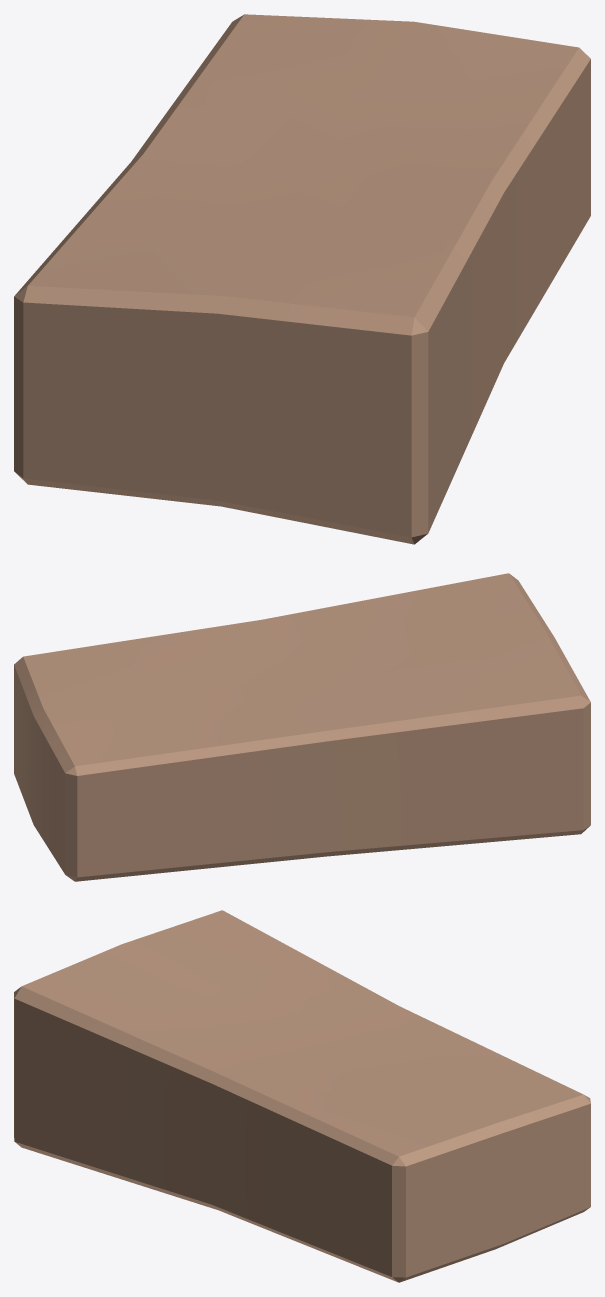
3 views of the same model, one above another, from view 1: azimuth 30°, elevation 25°; view 2: azimuth 150°, elevation 25°; view 3: azimuth 270°, elevation 25° (orthographic). The views are drawn at different scales.
Parts seen in each view (by area): view 1: rectangle; view 2: rectangle; view 3: rectangle.
Part boxes in pixels (bbox=[...]): rectangle: bbox=[14, 14, 590, 544]; rectangle: bbox=[14, 573, 590, 881]; rectangle: bbox=[14, 910, 590, 1282].
Bounding box in the file's own units: 2.59 × 0.8109 × 2.63.
